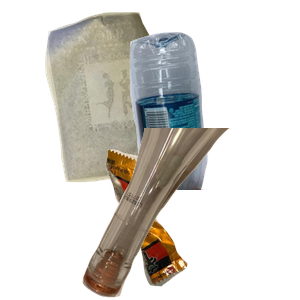glass: (80, 128, 300, 300)
paper: (43, 10, 221, 185)
plastic: (127, 29, 300, 209)
trash: (103, 147, 300, 300)
